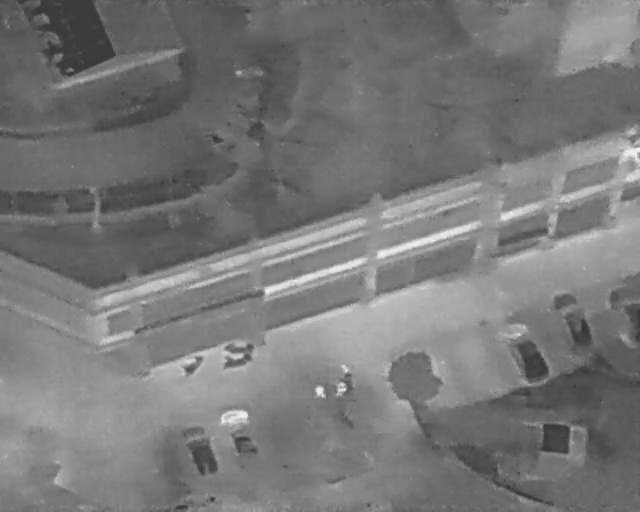Bicycle: (177, 349, 207, 380), (219, 348, 255, 371), (223, 340, 254, 355)
Car: (495, 315, 556, 393), (546, 284, 603, 360), (214, 400, 267, 469), (174, 417, 227, 486), (607, 281, 639, 352)
Person: (338, 361, 356, 393), (334, 380, 347, 399), (313, 384, 327, 400)
